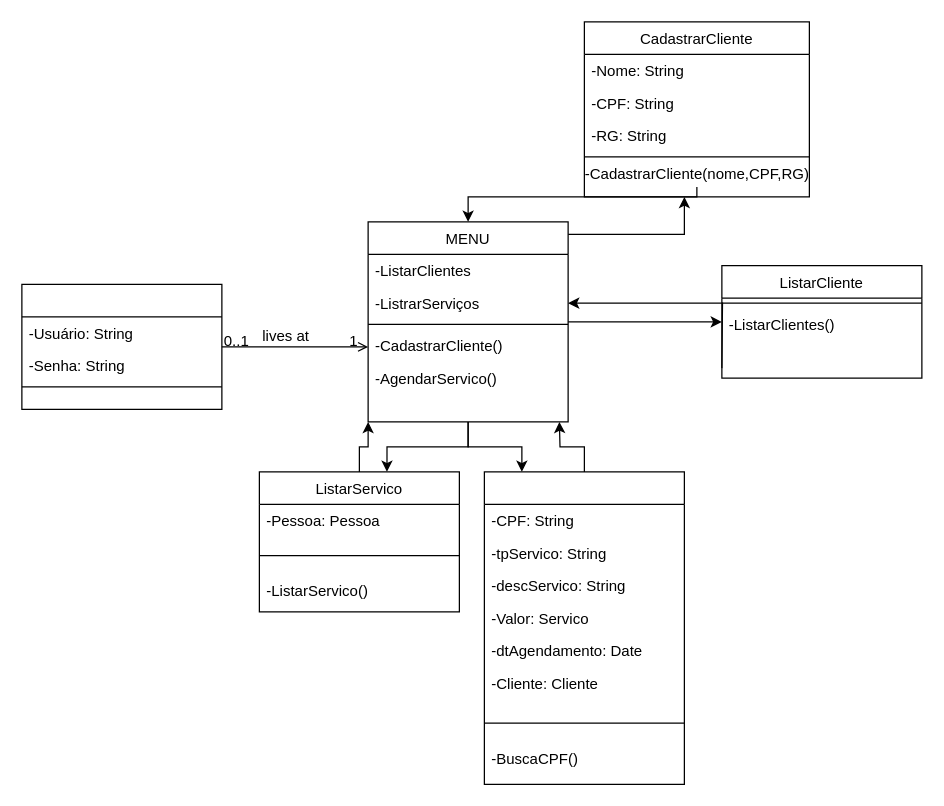
Some shapes in this 944 by 806 pixel diagram are drawn without their labels. Each missing label, with the box of its shape:
AgendarServico: (483, 471, 684, 784)
Login: (21, 283, 222, 409)
